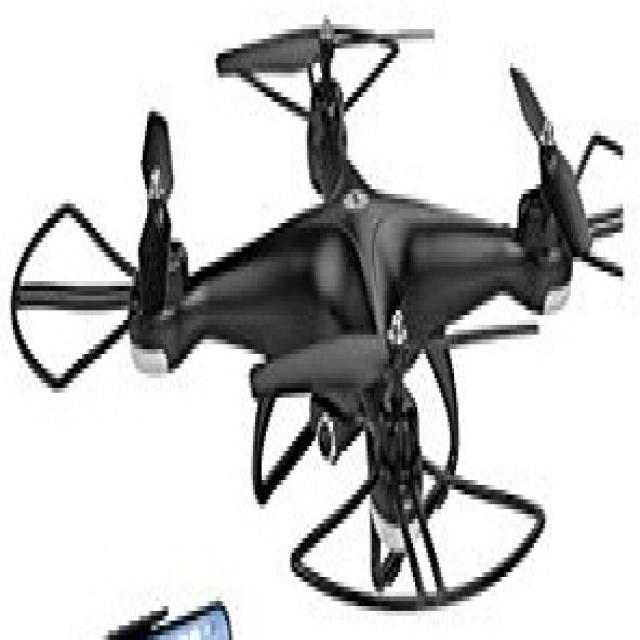drone: (8, 6, 632, 625)
